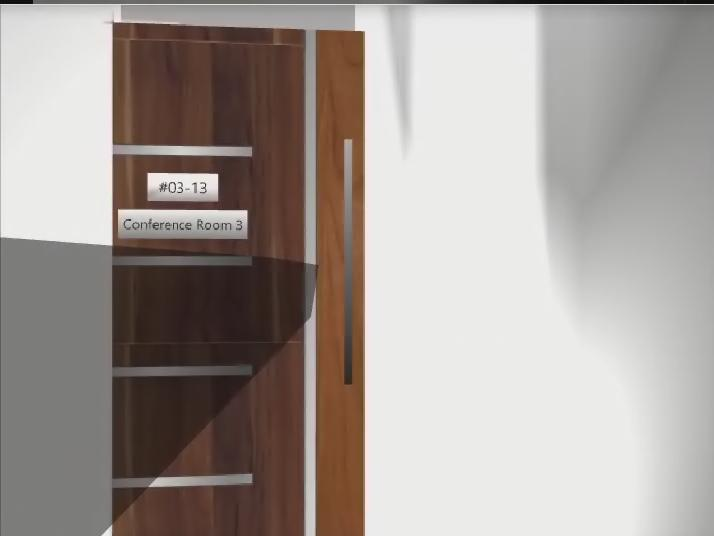door: (113, 23, 365, 536)
